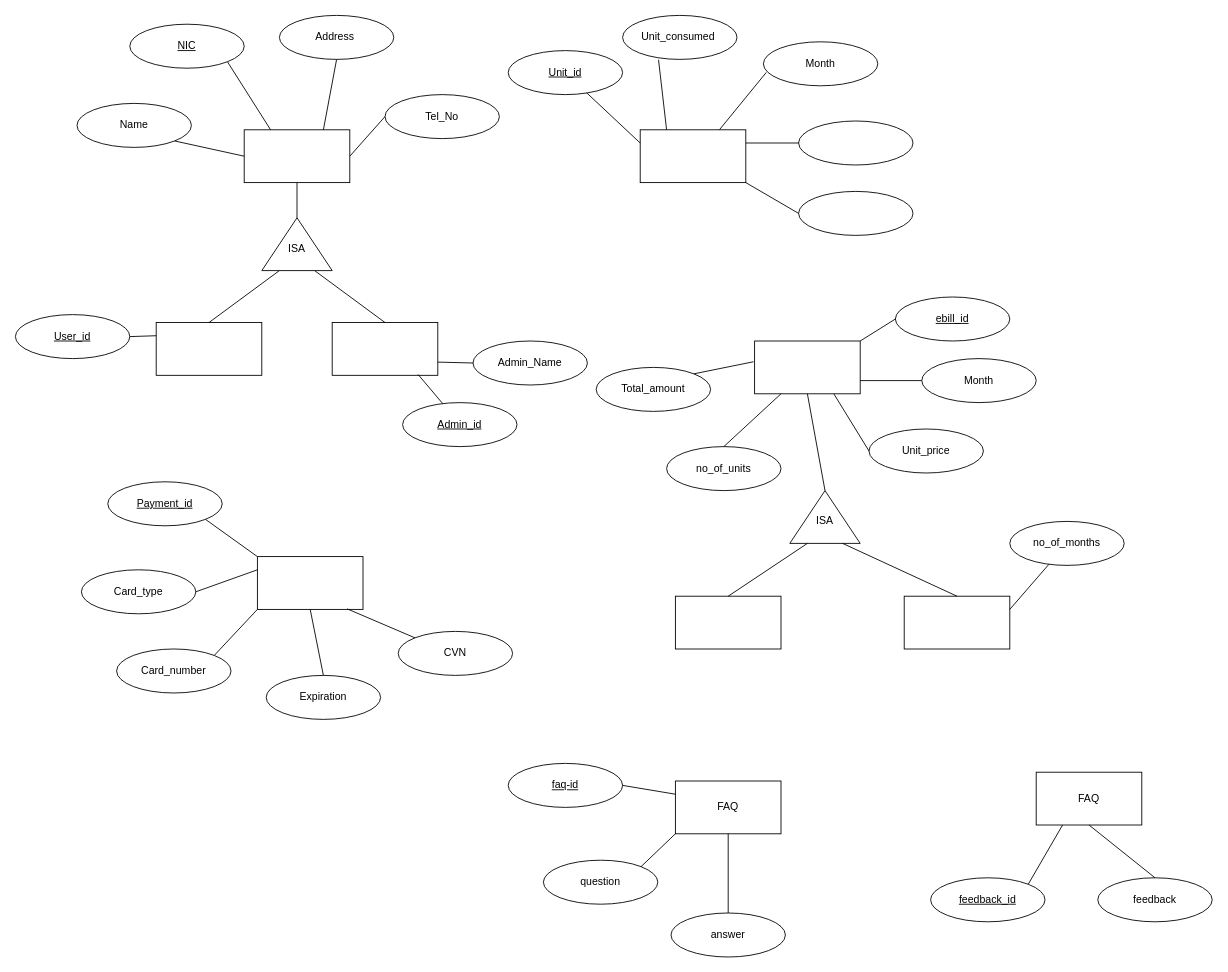
Some shapes in this 1228 by 972 pixel diagram are drawn without their labels. Each missing label, with the box of its shape:
Admin: (331, 322, 438, 375)
Consumption: (639, 129, 746, 183)
GeneralBill: (675, 595, 781, 649)
Invoice: (754, 340, 860, 394)
Payment: (257, 556, 363, 609)
Person: (243, 129, 350, 183)
RedBill: (903, 595, 1010, 649)
User: (155, 322, 262, 375)
